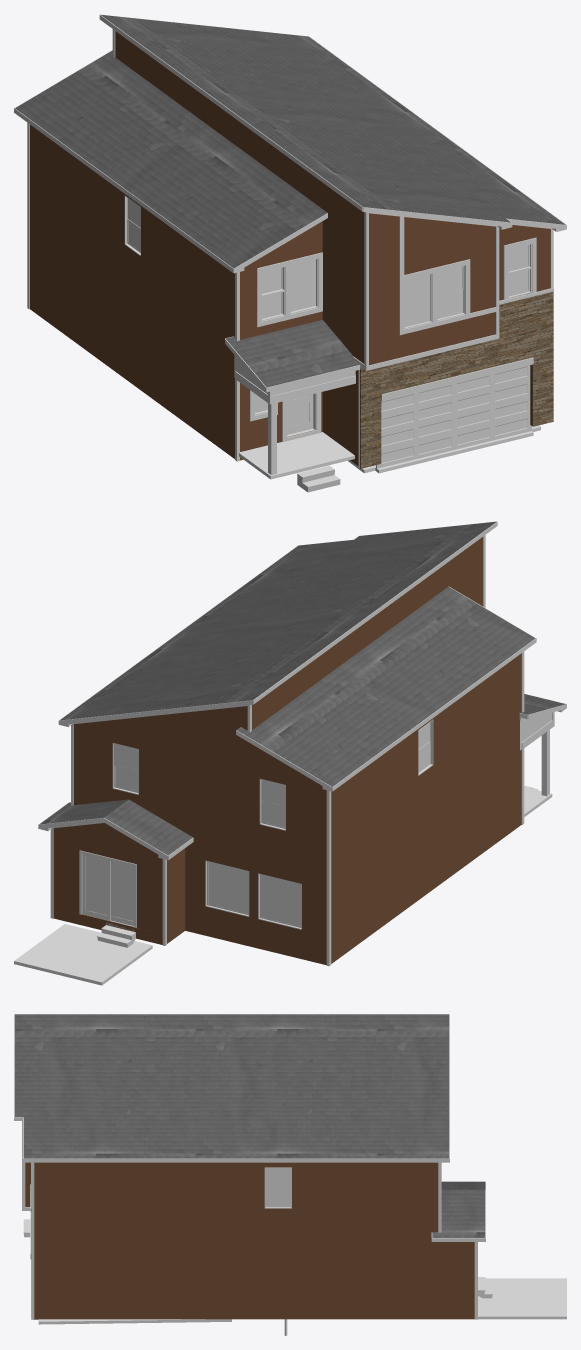
Rendered from 229-1994-dm-modern.glb.
The picture shows the model from 3 angles, top to bottom: view 1: azimuth 30°, elevation 25°; view 2: azimuth 150°, elevation 25°; view 3: azimuth 270°, elevation 25°; orthographic projection. The views are drawn at different scales.
Parts seen in each view (by area): view 1: Basic Roof Wood Rafter 4" - Asphalt Shingle - Insulated_6817, Basic Roof Wood Rafter 4" - Asphalt Shingle - Insulated_5f8e, Basic Wall BSB Exterior - Stud_5.5" - Sheathing_0.5" - _cba5, Basic Wall BSB Exterior - Stud_3.5" - Sheathing_0.5" - _4fd9, Basic Wall BSB Exterior - Stone Veneer_2" [4453108], Traditional - BSB Exterior - Overhead Garage Door - Clo_d790, Basic Wall BSB Exterior - Stud_3.5" - Sheathing_0.5" - _7f34, Basic Wall BSB Exterior - Stud_3.5" - Sheathing_0.5" - _c6c5, Basic Wall BSB Exterior - Stud_5.5" - Sheathing_0.5" - _d464, Basic Wall BSB Exterior - Stud_3.5" - Sheathing_0.5" - _df46, Basic Roof Wood Rafter 4" - Asphalt Shingle - Insulated_ae01, Fascia Fascia-Flat 1x6 w/12" Soffit Bd [4259483] (+28 smaller); view 2: Basic Roof Wood Rafter 4" - Asphalt Shingle - Insulated_6817, Basic Roof Wood Rafter 4" - Asphalt Shingle - Insulated_5f8e, Basic Wall BSB Exterior - Stud_3.5" - Sheathing_0.5" - _2e51, Basic Wall BSB Exterior - Stud_5.5" - Sheathing_0.5" - _cba5, Basic Wall BSB Exterior - Stud_3.5" - Sheathing_0.5" - _ca60, Basic Wall BSB Exterior - Stud_3.5" - Sheathing_0.5" - _7f34, Basic Wall BSB Exterior - Stud_3.5" - Sheathing_0.5" - _a688, Basic Wall BSB Exterior - Stud_3.5" - Sheathing_0.5" - _c6c5, Basic Wall BSB Exterior - Stud_5.5" - Sheathing_0.5" - _d464, Basic Wall BSB Exterior - Stud_3.5" - Sheathing_0.5" - _4c8a, Floor BSB Concrete Slab - 4" - Slope Option [4621636], Basic Wall BSB Exterior - Stud_3.5" - Sheathing_0.5" - _df46 (+15 smaller); view 3: Basic Roof Wood Rafter 4" - Asphalt Shingle - Insulated_6817, Basic Wall BSB Exterior - Stud_3.5" - Sheathing_0.5" - _3bf5, Basic Wall BSB Exterior - Stud_3.5" - Sheathing_0.5" - _f4ce, Basic Wall BSB Exterior - Stud_3.5" - Sheathing_0.5" - _a8d1, Basic Wall BSB Exterior - Stud_3.5" - Sheathing_0.5" - _2a5f, Basic Wall BSB Exterior - Stud_3.5" - Sheathing_0.5" - _63a0, Floor BSB Concrete Slab - 4" - Slope Option [4621636], Fascia Fascia-Flat 1x6 w/12" Soffit Bd [4259483], Basic Roof Wood Rafter 4" - Asphalt Shingle - Insulated_5cc2, Basic Wall BSB Exterior - Stud_3.5" - Sheathing_0.5" - _66db, Basic Wall BSB Exterior - Stud_3.5" - Sheathing_0.5" - _9771, Basic Wall BSB Exterior - Stud_3.5" - Sheathing_0.5" - _bfd5 (+4 smaller).
Part boxes in pixels (bbox=[...]): Basic Roof Wood Rafter 4" - Asphalt Shingle - Insulated_6817: bbox=[100, 14, 565, 224]; Basic Roof Wood Rafter 4" - Asphalt Shingle - Insulated_5f8e: bbox=[15, 50, 327, 268]; Basic Wall BSB Exterior - Stud_5.5" - Sheathing_0.5" - _cba5: bbox=[122, 192, 196, 430]; Basic Wall BSB Exterior - Stud_3.5" - Sheathing_0.5" - _4fd9: bbox=[369, 213, 495, 365]; Basic Wall BSB Exterior - Stone Veneer_2" [4453108]: bbox=[360, 288, 553, 468]; Traditional - BSB Exterior - Overhead Garage Door - Clo_d790: bbox=[376, 365, 531, 468]; Basic Wall BSB Exterior - Stud_3.5" - Sheathing_0.5" - _7f34: bbox=[30, 208, 121, 376]; Basic Wall BSB Exterior - Stud_3.5" - Sheathing_0.5" - _c6c5: bbox=[116, 31, 364, 275]; Basic Wall BSB Exterior - Stud_5.5" - Sheathing_0.5" - _d464: bbox=[197, 247, 234, 458]; Basic Wall BSB Exterior - Stud_3.5" - Sheathing_0.5" - _df46: bbox=[30, 125, 93, 253]; Basic Roof Wood Rafter 4" - Asphalt Shingle - Insulated_ae01: bbox=[226, 320, 359, 387]; Fascia Fascia-Flat 1x6 w/12" Soffit Bd [4259483]: bbox=[14, 14, 566, 272]; Basic Roof Wood Rafter 4" - Asphalt Shingle - Insulated_6817: bbox=[60, 521, 496, 720]; Basic Roof Wood Rafter 4" - Asphalt Shingle - Insulated_5f8e: bbox=[236, 586, 535, 786]; Basic Wall BSB Exterior - Stud_3.5" - Sheathing_0.5" - _2e51: bbox=[74, 724, 326, 870]; Basic Wall BSB Exterior - Stud_5.5" - Sheathing_0.5" - _cba5: bbox=[416, 680, 485, 901]; Basic Wall BSB Exterior - Stud_3.5" - Sheathing_0.5" - _ca60: bbox=[185, 838, 326, 965]; Basic Wall BSB Exterior - Stud_3.5" - Sheathing_0.5" - _7f34: bbox=[331, 808, 415, 963]; Basic Wall BSB Exterior - Stud_3.5" - Sheathing_0.5" - _a688: bbox=[53, 823, 162, 944]; Basic Wall BSB Exterior - Stud_3.5" - Sheathing_0.5" - _c6c5: bbox=[252, 537, 482, 729]; Basic Wall BSB Exterior - Stud_5.5" - Sheathing_0.5" - _d464: bbox=[485, 654, 521, 850]; Basic Wall BSB Exterior - Stud_3.5" - Sheathing_0.5" - _4c8a: bbox=[78, 706, 245, 764]; Floor BSB Concrete Slab - 4" - Slope Option [4621636]: bbox=[14, 924, 152, 985]; Basic Wall BSB Exterior - Stud_3.5" - Sheathing_0.5" - _df46: bbox=[331, 750, 388, 869]; Basic Roof Wood Rafter 4" - Asphalt Shingle - Insulated_6817: bbox=[14, 1014, 449, 1158]; Basic Wall BSB Exterior - Stud_3.5" - Sheathing_0.5" - _3bf5: bbox=[274, 1235, 474, 1319]; Basic Wall BSB Exterior - Stud_3.5" - Sheathing_0.5" - _f4ce: bbox=[69, 1235, 260, 1319]; Basic Wall BSB Exterior - Stud_3.5" - Sheathing_0.5" - _a8d1: bbox=[69, 1162, 227, 1234]; Basic Wall BSB Exterior - Stud_3.5" - Sheathing_0.5" - _2a5f: bbox=[327, 1162, 438, 1234]; Basic Wall BSB Exterior - Stud_3.5" - Sheathing_0.5" - _63a0: bbox=[227, 1162, 327, 1234]; Floor BSB Concrete Slab - 4" - Slope Option [4621636]: bbox=[478, 1278, 566, 1319]; Fascia Fascia-Flat 1x6 w/12" Soffit Bd [4259483]: bbox=[14, 1014, 449, 1162]; Basic Roof Wood Rafter 4" - Asphalt Shingle - Insulated_5cc2: bbox=[432, 1181, 485, 1237]; Basic Wall BSB Exterior - Stud_3.5" - Sheathing_0.5" - _66db: bbox=[34, 1162, 68, 1234]; Basic Wall BSB Exterior - Stud_3.5" - Sheathing_0.5" - _9771: bbox=[41, 1235, 68, 1319]; Basic Wall BSB Exterior - Stud_3.5" - Sheathing_0.5" - _bfd5: bbox=[260, 1235, 274, 1319].
Bounding box in the file's own units: 9.49 × 10.67 × 18.61.
3 materials, 2 textured.
